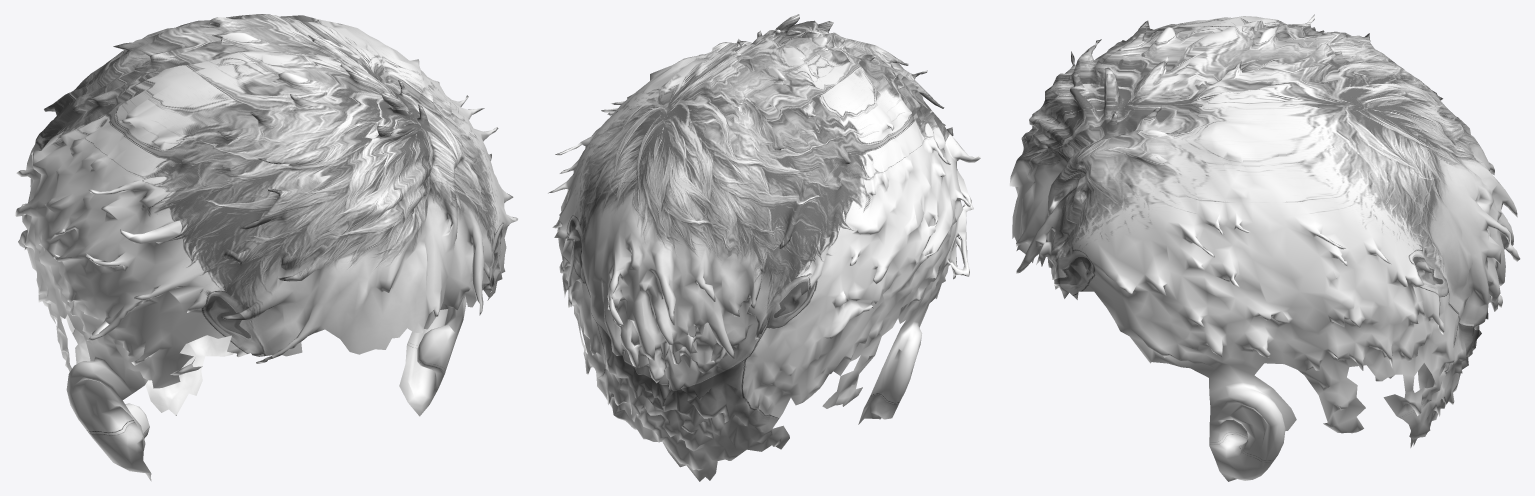
Rendered from hair_crop.glb.
The picture shows the model from 3 angles, left to right: view 1: azimuth 30°, elevation 25°; view 2: azimuth 150°, elevation 25°; view 3: azimuth 270°, elevation 25°; orthographic projection. The views are drawn at different scales.
Visible parts, largest first — view 1: hair; view 2: hair; view 3: hair.
Part boxes in pixels (x1=…): hair: x1=14, y1=14, x2=517, y2=481; hair: x1=548, y1=14, x2=980, y2=481; hair: x1=1009, y1=14, x2=1520, y2=481.
Size of the model in its own units: 0.243 by 0.2417 by 0.2715.
Materials: 1 (1 with a texture image).
